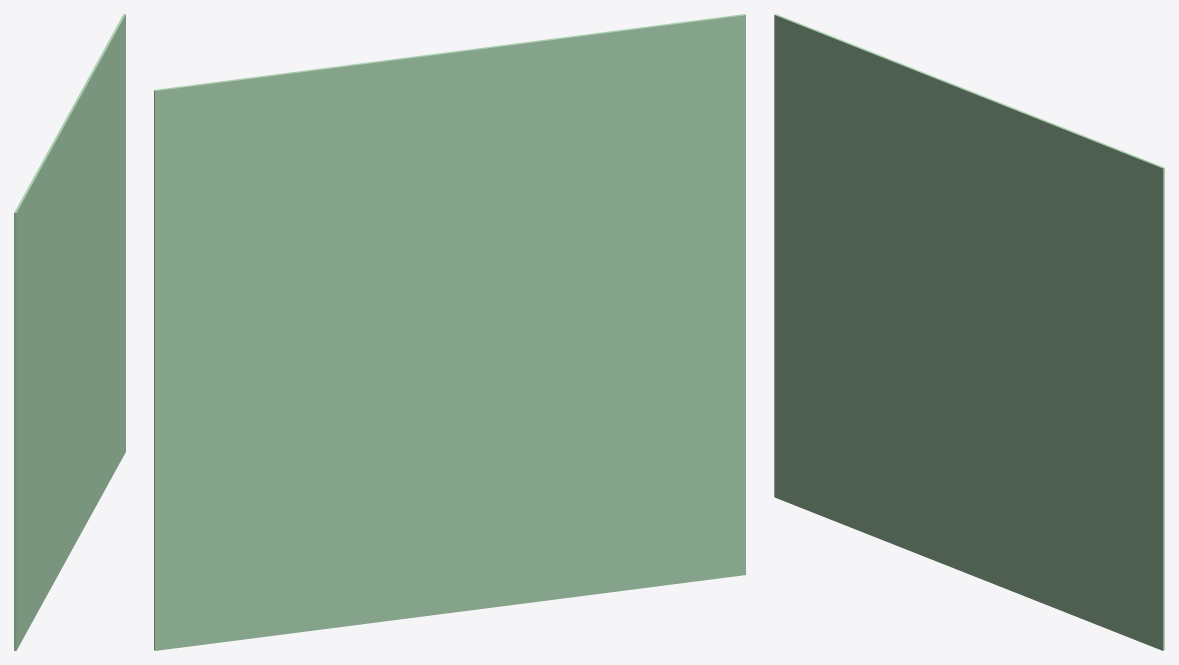
The picture shows the model from 3 angles, left to right: view 1: azimuth 30°, elevation 25°; view 2: azimuth 150°, elevation 25°; view 3: azimuth 270°, elevation 25°; orthographic projection. The views are drawn at different scales.
Visible parts, largest first — view 1: Plane.003; view 2: Plane.003; view 3: Plane.003.
Boxes of the visible parts, bbox=[...] form: Plane.003: bbox=[14, 14, 125, 650]; Plane.003: bbox=[154, 14, 745, 650]; Plane.003: bbox=[774, 14, 1164, 650].
Size of the model in its own units: 0.1974 by 0.2874 by 0.2109.
